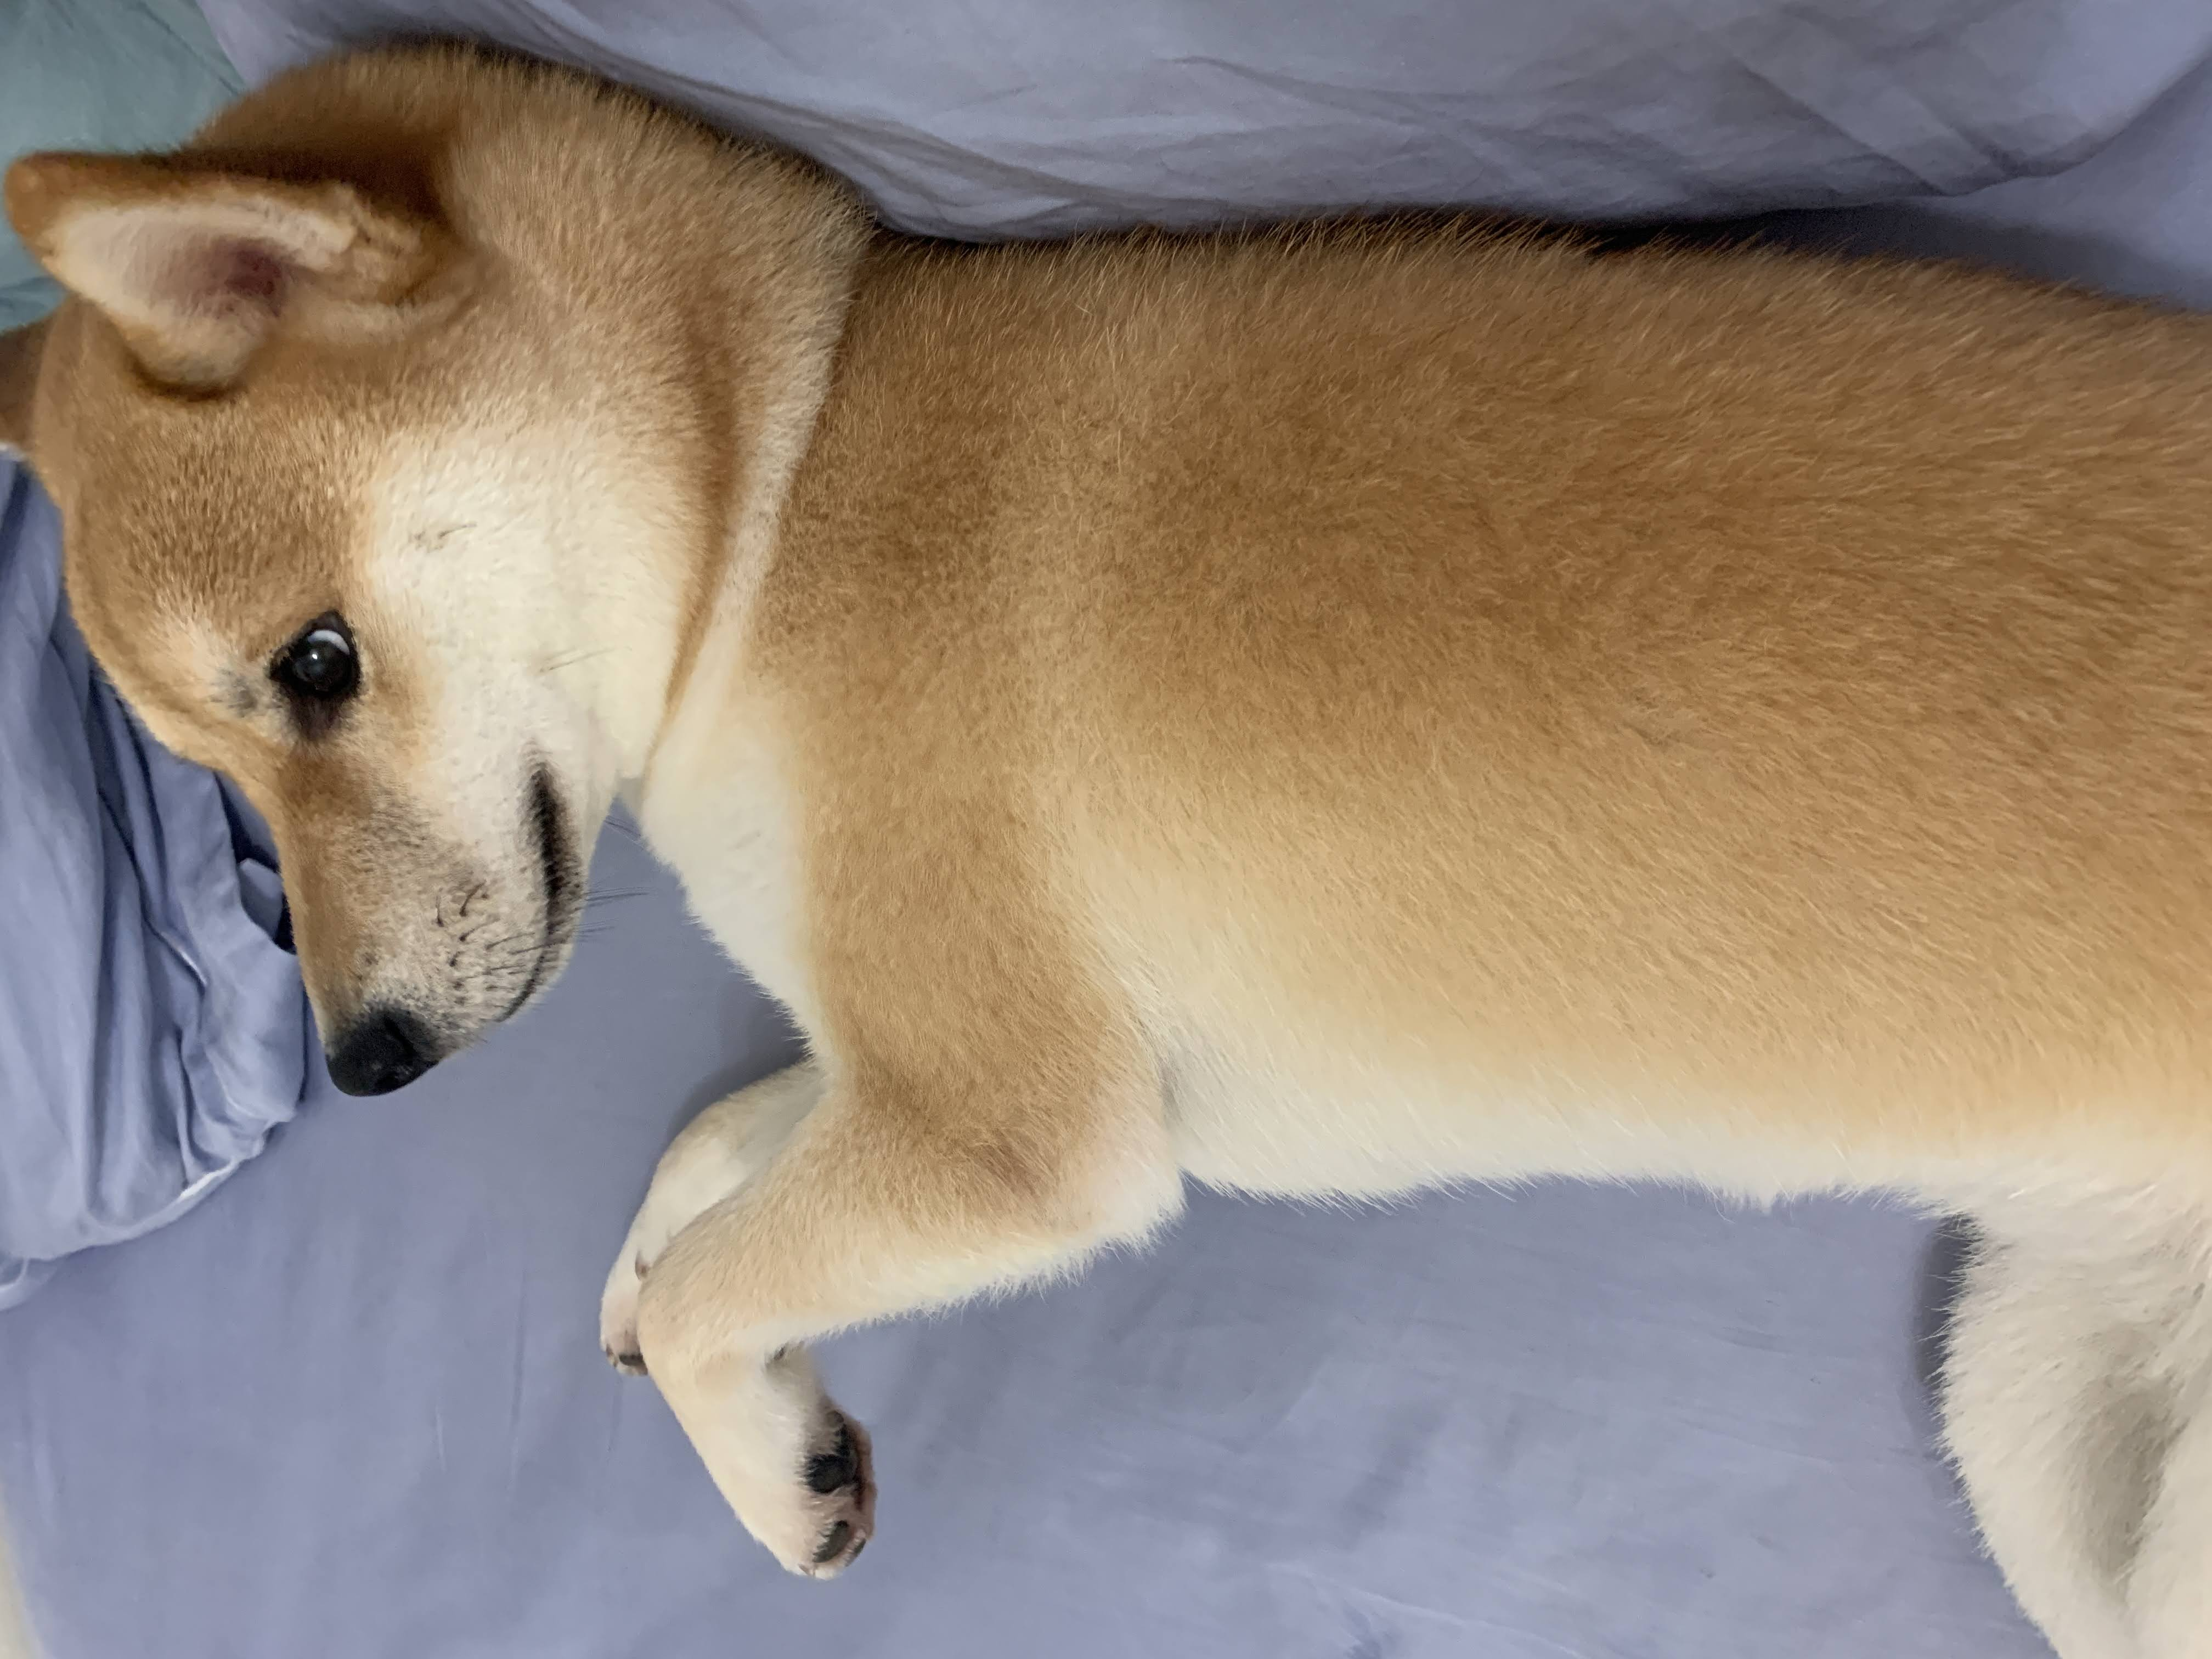Get down: (12, 87, 2212, 1659)
